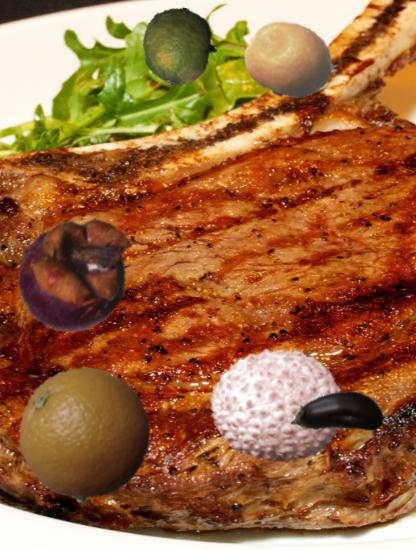Eggplant: (291, 364, 386, 459)
Kumquats: (244, 15, 335, 106)
Limes: (141, 8, 219, 86)
Lychee: (210, 335, 348, 473)
Mangostan: (13, 210, 139, 336)
Orange: (18, 368, 153, 503)
